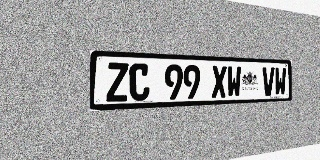9: (165, 64, 183, 100), (183, 65, 200, 99)
C: (129, 63, 150, 101)
V: (262, 67, 274, 96)
W: (227, 66, 241, 97), (275, 67, 286, 95)
X: (212, 65, 227, 98)
Z: (106, 62, 128, 102)
